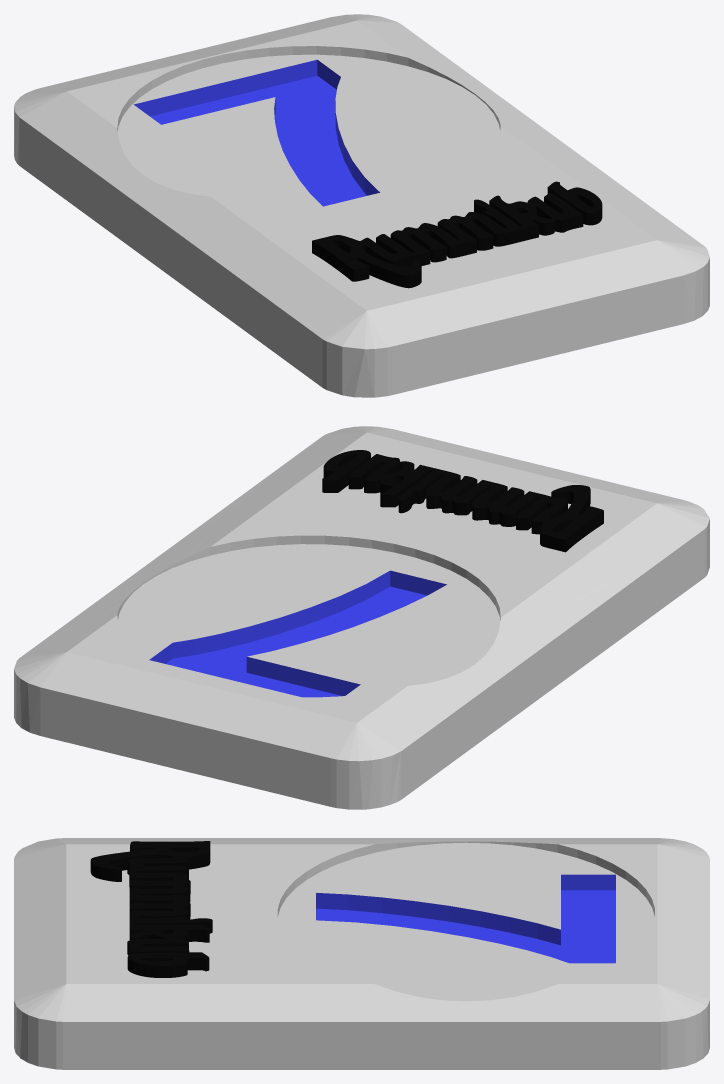
The picture shows the model from 3 angles, top to bottom: view 1: azimuth 30°, elevation 25°; view 2: azimuth 150°, elevation 25°; view 3: azimuth 270°, elevation 25°; orthographic projection.
Visible parts, largest first — view 1: Rummikub 7 Fixed, Rummikub 1 Fixed.001; view 2: Rummikub 7 Fixed, Rummikub 1 Fixed.001; view 3: Rummikub 7 Fixed, Rummikub 1 Fixed.001.
Boxes of the visible parts, <box> form: Rummikub 7 Fixed: <box>14,14,709,397</box>; Rummikub 1 Fixed.001: <box>312,181,602,288</box>; Rummikub 7 Fixed: <box>14,426,709,809</box>; Rummikub 1 Fixed.001: <box>322,450,603,552</box>; Rummikub 7 Fixed: <box>14,838,709,1069</box>; Rummikub 1 Fixed.001: <box>90,841,212,977</box>.
Bounding box in the file's own units: 2499 × 482 × 4000.
